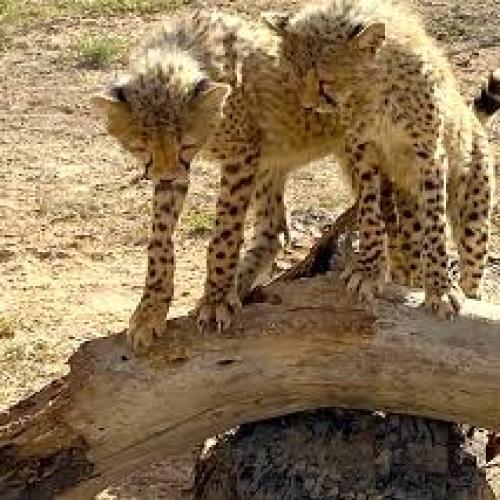cheetah-endangered: (85, 15, 342, 351), (267, 0, 500, 320)
